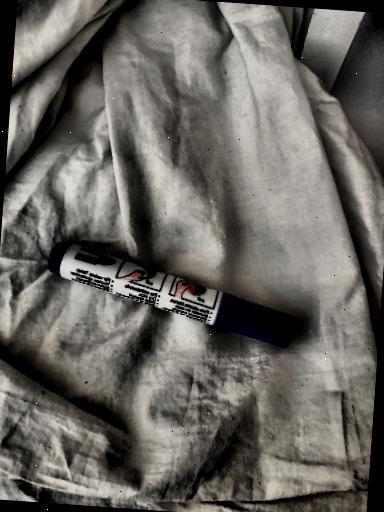marcador azul: (49, 242, 296, 347)
